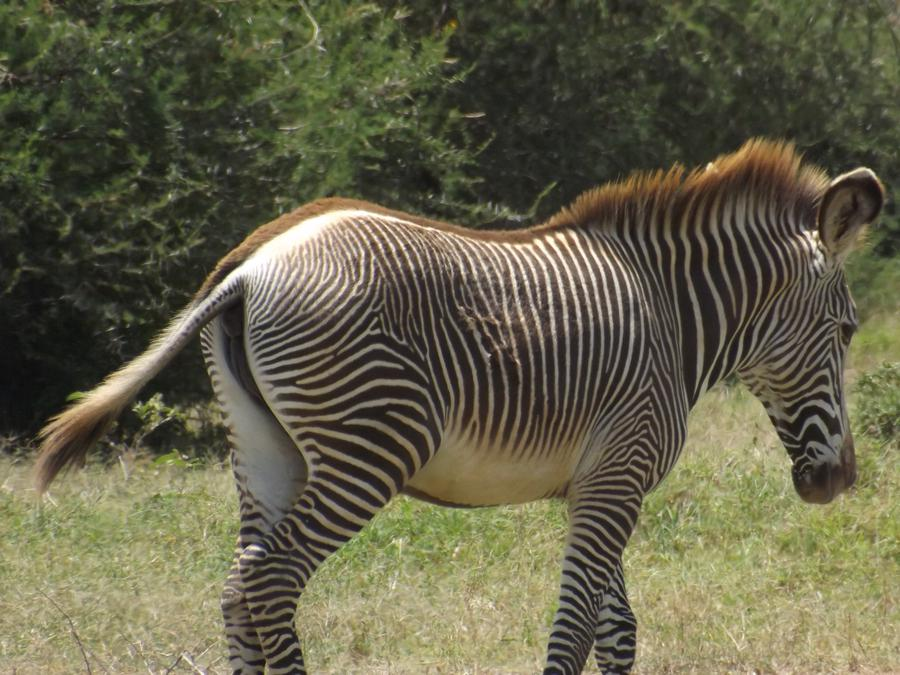zebra_grevys: (220, 187, 665, 504)
